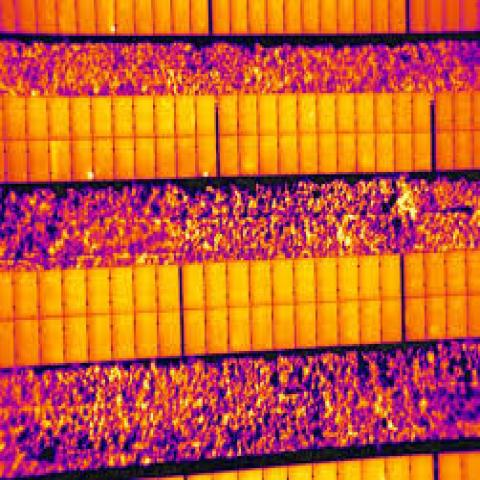fault: (107, 24, 117, 33), (201, 170, 210, 179), (86, 170, 94, 179)
